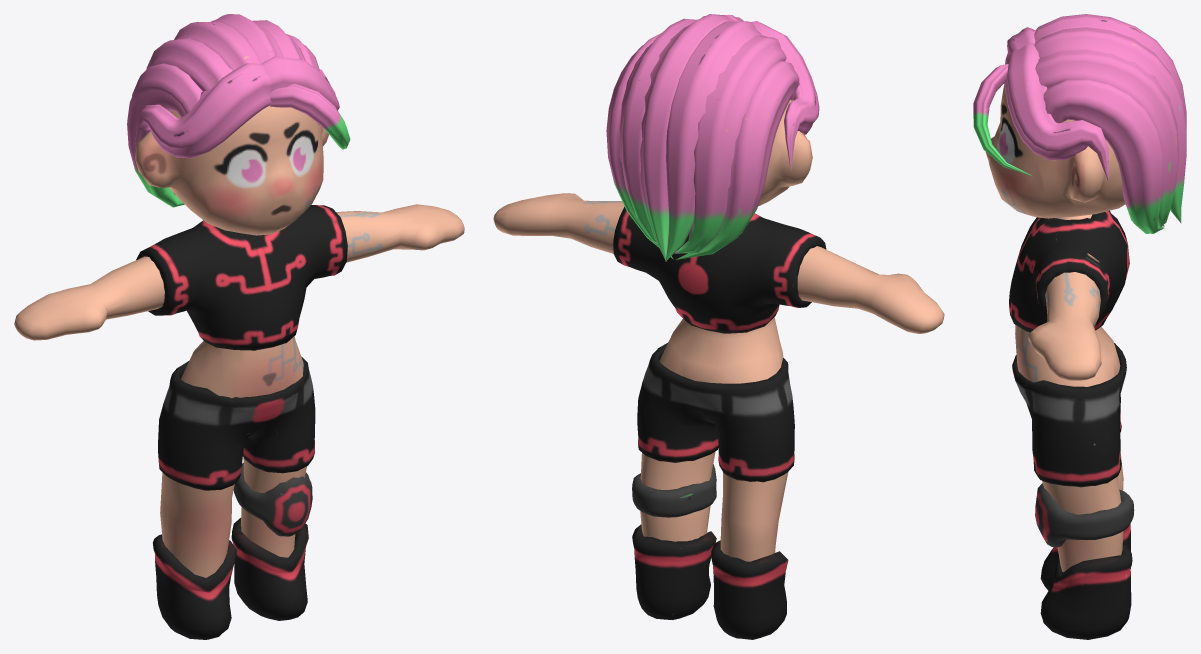
The model's file is Player.fbx.
3 views of the same model, side by side, from view 1: azimuth 30°, elevation 25°; view 2: azimuth 150°, elevation 25°; view 3: azimuth 270°, elevation 25° (orthographic).
Visible parts, largest first — view 1: Retopo_Sphere.004; view 2: Retopo_Sphere.004; view 3: Retopo_Sphere.004.
Boxes of the visible parts, x1,y1,x2,y2 form: Retopo_Sphere.004: (14, 14, 464, 639); Retopo_Sphere.004: (493, 14, 944, 639); Retopo_Sphere.004: (973, 14, 1186, 639).
Size of the model in its own units: 131 by 169 by 55.13.
Materials: 1 (1 with a texture image).
